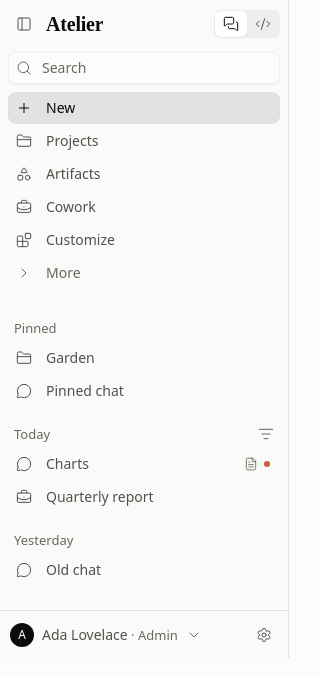
Sidebar › pins projects and conversations, then lists chats and Cowork tasks by day, filtered from the first group
Expected: the text "Garden" is shown, left=46, top=348, right=95, bottom=367
Expected: the picture named "Project" is shown, left=16, top=350, right=32, bottom=366
Click the button named "Filter recents" at (266, 434), box left=254, top=422, right=278, bottom=446
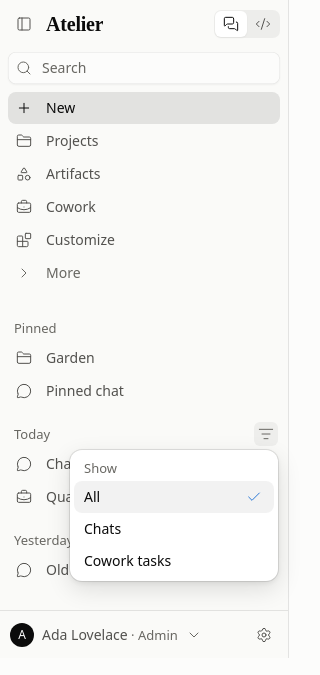
Click the menu item "Cowork tasks" at (128, 560), box left=84, top=551, right=171, bottom=570
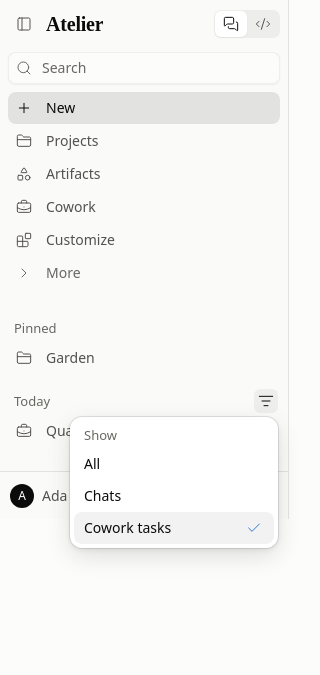
Expected: the text "Quarterly report" is shown, left=46, top=421, right=154, bottom=440
Expected: the link "Charts" is gone
Expected: the link "Pinned chat" is gone
